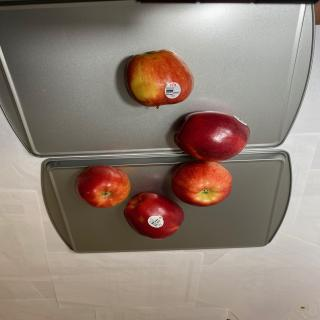Apple: (124, 49, 194, 109), (173, 111, 250, 162), (170, 160, 232, 207), (124, 192, 184, 240), (74, 165, 131, 208)
